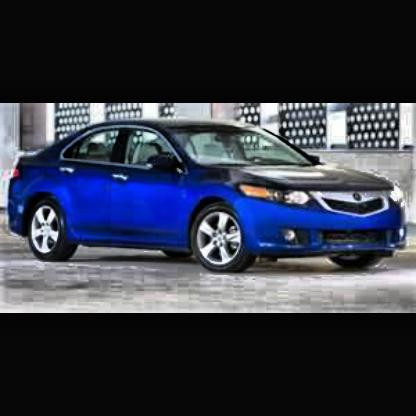Acura TSX Sedan 2012: (7, 112, 416, 274)
